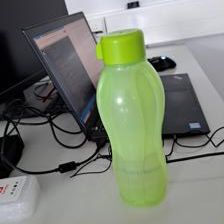bottle: (93, 26, 170, 204)
